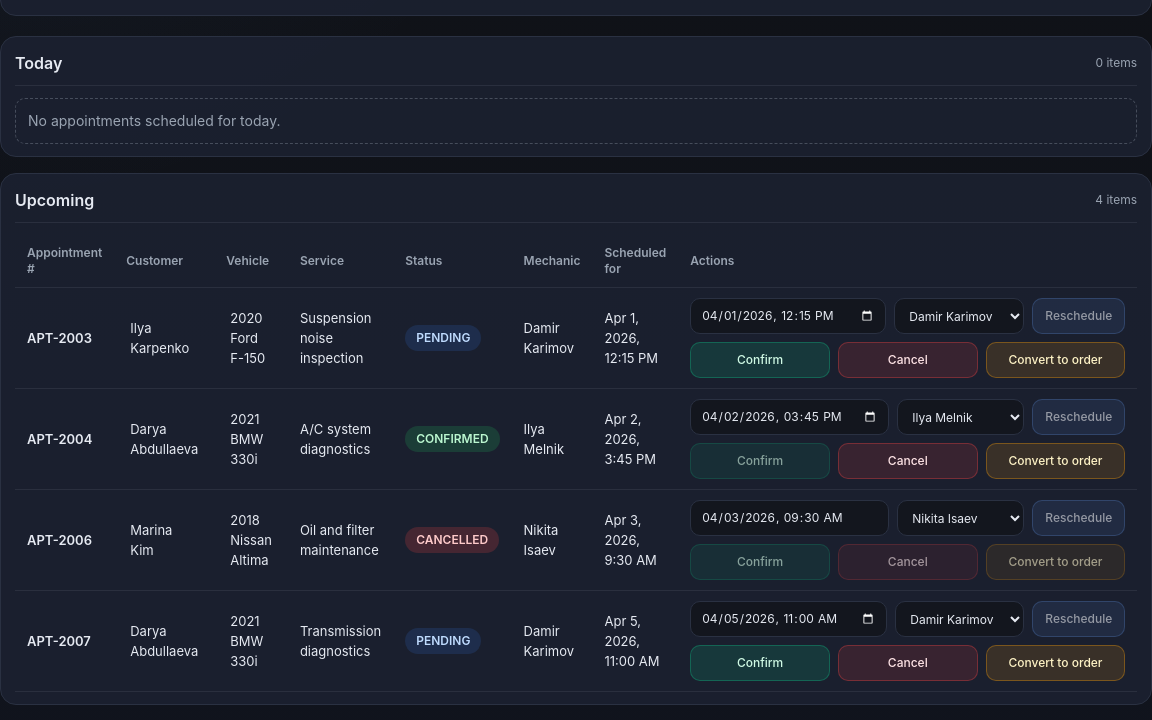
AppointmentsScheduling › starts confirm action from row control
The image size is (1152, 720).
(page scrolled)
Expected: the heading "Today" is shown, [15,51,62,75]
Click the button "Confirm" in the row of "APT-2003". click: (760, 360)
box: [690,342,830,378]
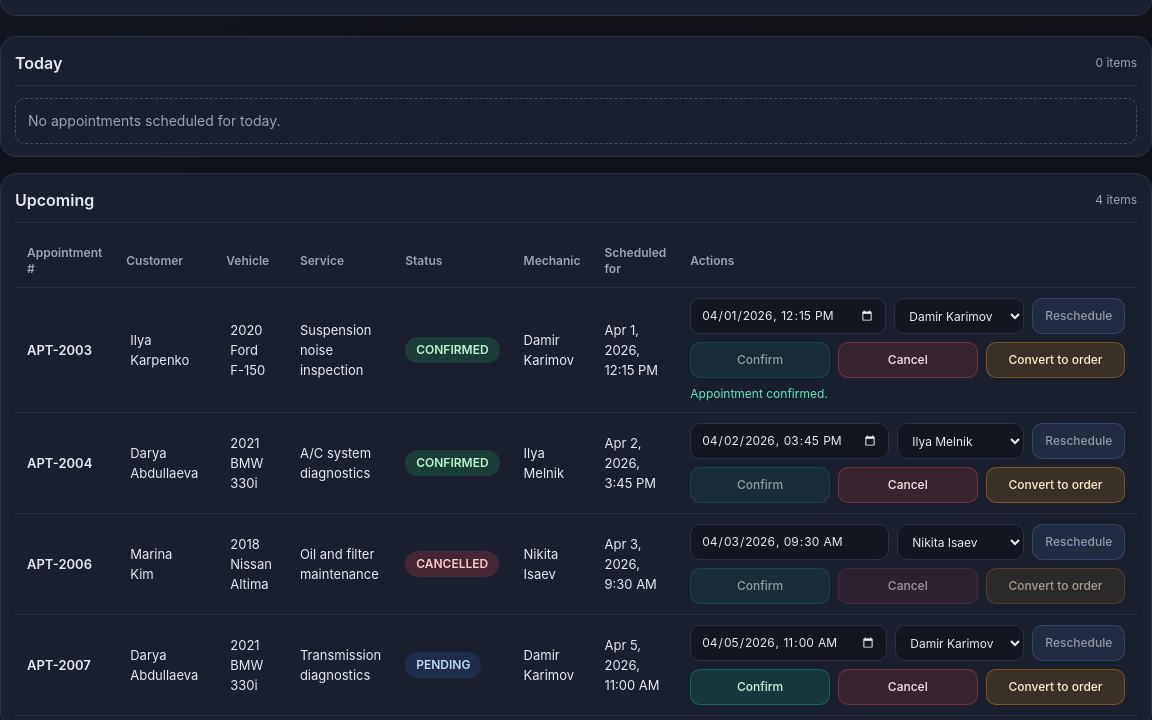
Result: the button "Confirm" in the row of "APT-2003" is disabled at [690,342,830,378]
